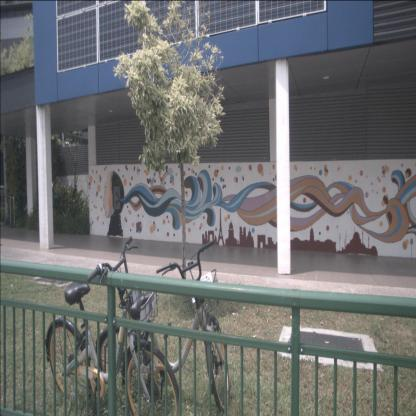vehicle-bicycle: (46, 235, 182, 415), (95, 238, 230, 410)
